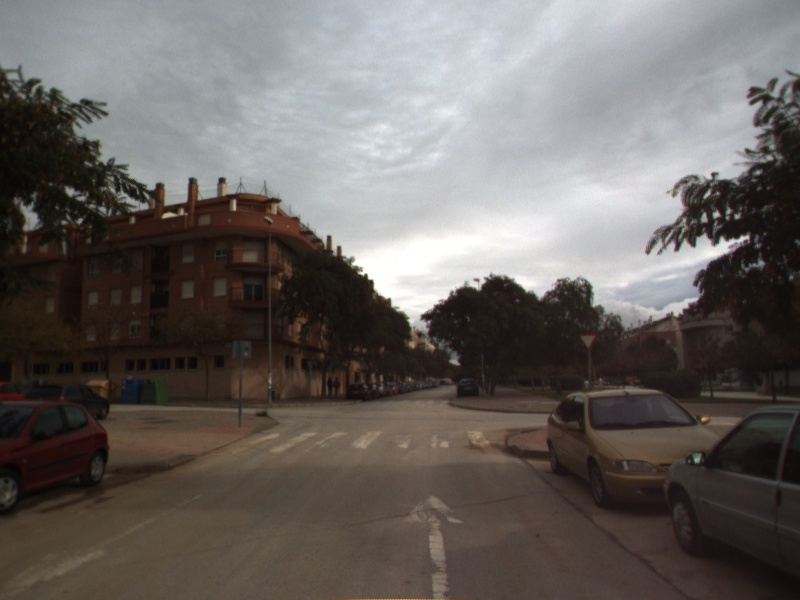STRAIGHT: (398, 489, 469, 600)
